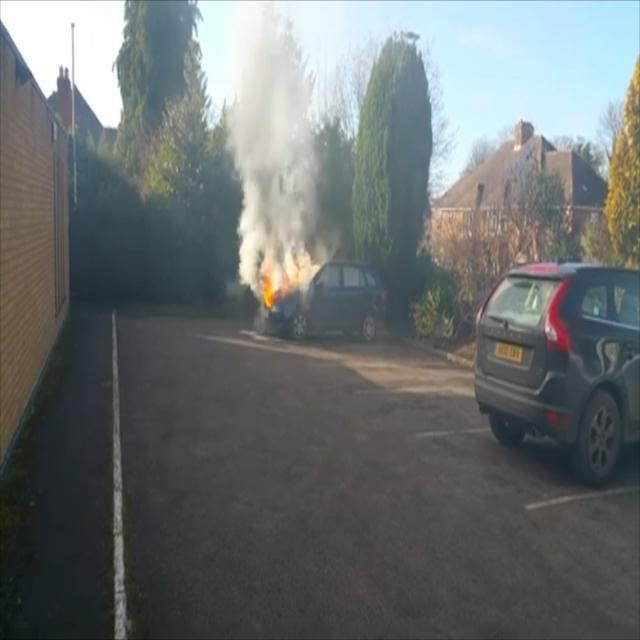fire: (254, 249, 312, 315)
